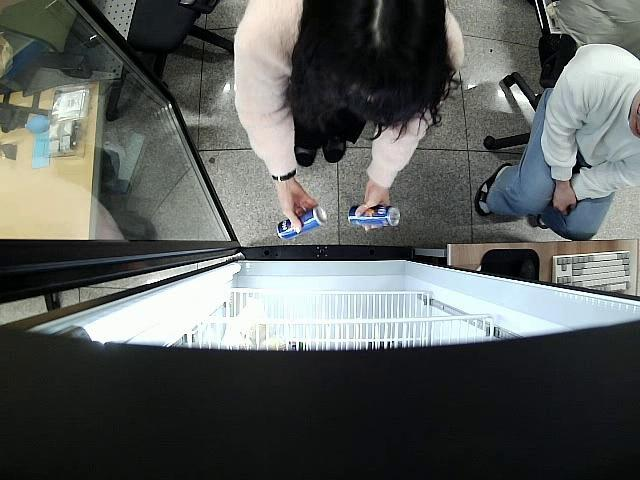16_hot6: (276, 204, 328, 240), (346, 204, 402, 229)
